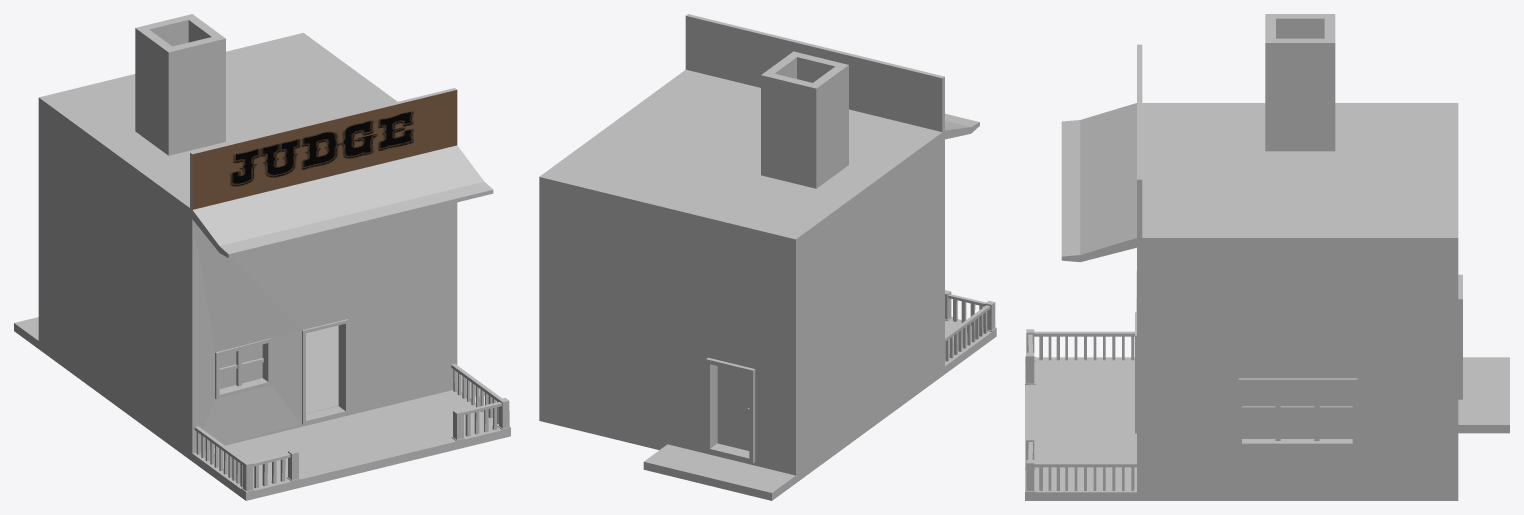
Rendered from Casa_4.fbx.
The picture shows the model from 3 angles, left to right: view 1: azimuth 30°, elevation 25°; view 2: azimuth 150°, elevation 25°; view 3: azimuth 270°, elevation 25°; orthographic projection. The views are drawn at different scales.
Visible parts, largest first — view 1: casa, Banner; view 2: casa; view 3: casa.
Boxes of the visible parts, x1=… form: casa: x1=14, y1=14, x2=510, y2=500; Banner: x1=192, y1=90, x2=457, y2=209; casa: x1=539, y1=14, x2=996, y2=500; casa: x1=1025, y1=14, x2=1509, y2=500.
Size of the model in its own units: 1708 by 2168 by 2566.
